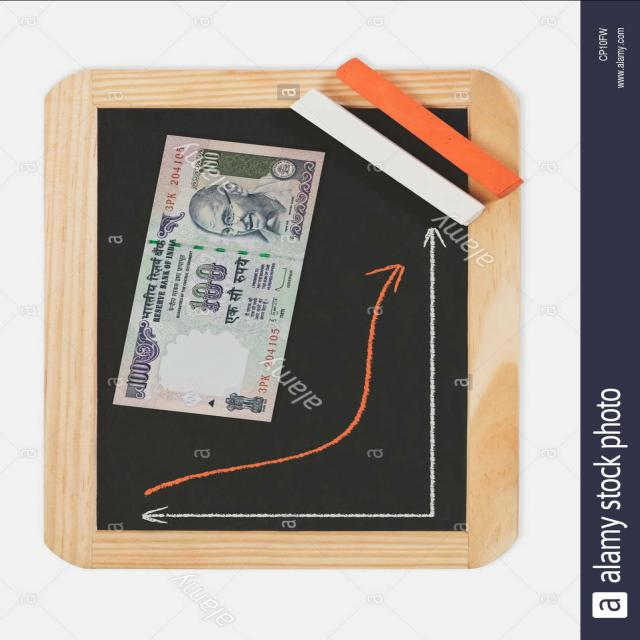100IndianRupees: (115, 135, 325, 424)
